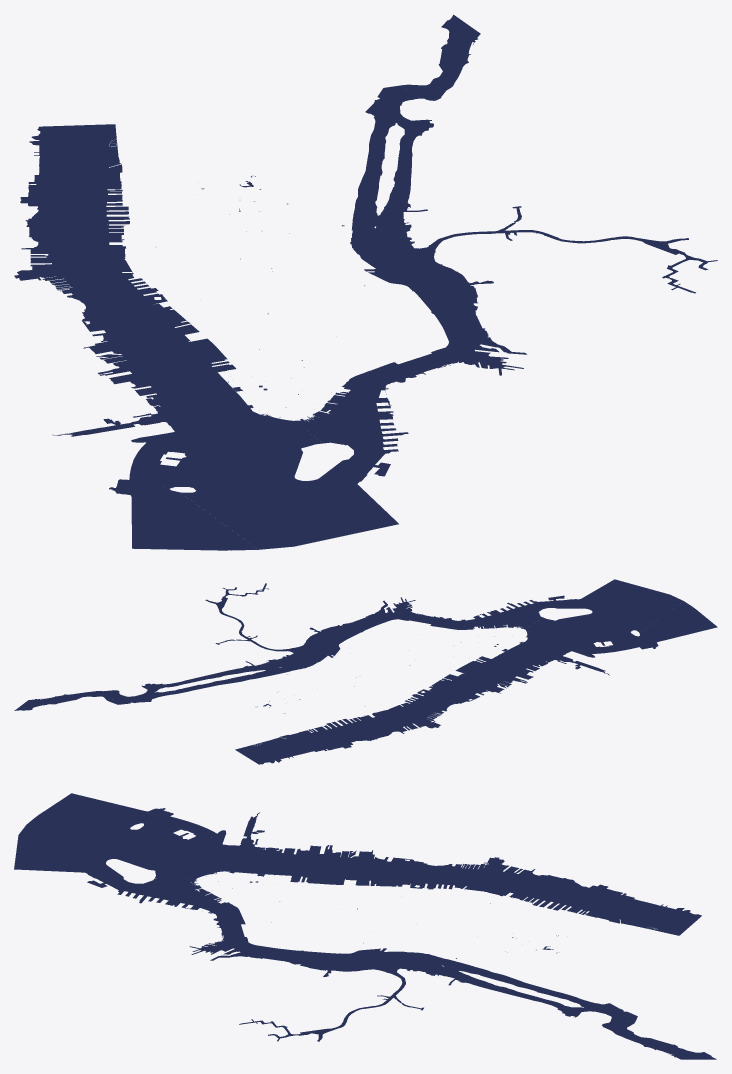
The model's file is HudsonRiver.glb.
3 views of the same model, one above another, from view 1: azimuth 30°, elevation 25°; view 2: azimuth 150°, elevation 25°; view 3: azimuth 270°, elevation 25° (orthographic). The views are drawn at different scales.
Parts seen in each view (by area): view 1: map_48osm_water, water, water001; view 2: map_48osm_water, water, water001; view 3: map_48osm_water, water, water001.
Part boxes in pixels (left/top/right/bottom): map_48osm_water: left=17, top=14, right=717, bottom=447; water: left=52, top=313, right=407, bottom=550; water001: left=14, top=243, right=177, bottom=331; map_48osm_water: left=14, top=583, right=557, bottom=764; water: left=435, top=579, right=717, bottom=693; water001: left=372, top=684, right=479, bottom=728; map_48osm_water: left=126, top=845, right=716, bottom=1059; water: left=14, top=793, right=390, bottom=910; water001: left=390, top=857, right=512, bottom=896.
Bounding box in the file's own units: 1307 × 0.000133 × 1459.
